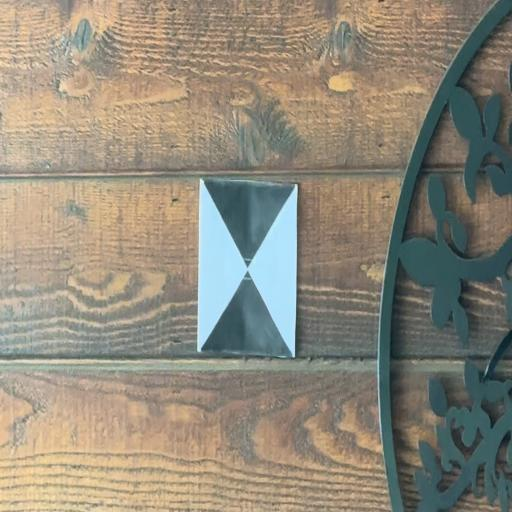target: (200, 178, 297, 358)
